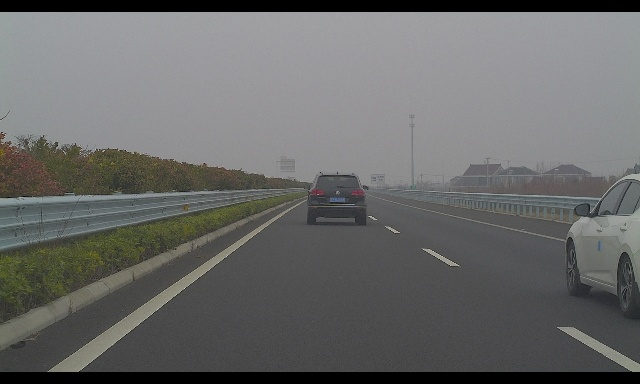car: (564, 174, 640, 318), (304, 171, 369, 224)
